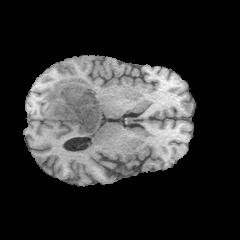glioma: (43, 76, 102, 137)
